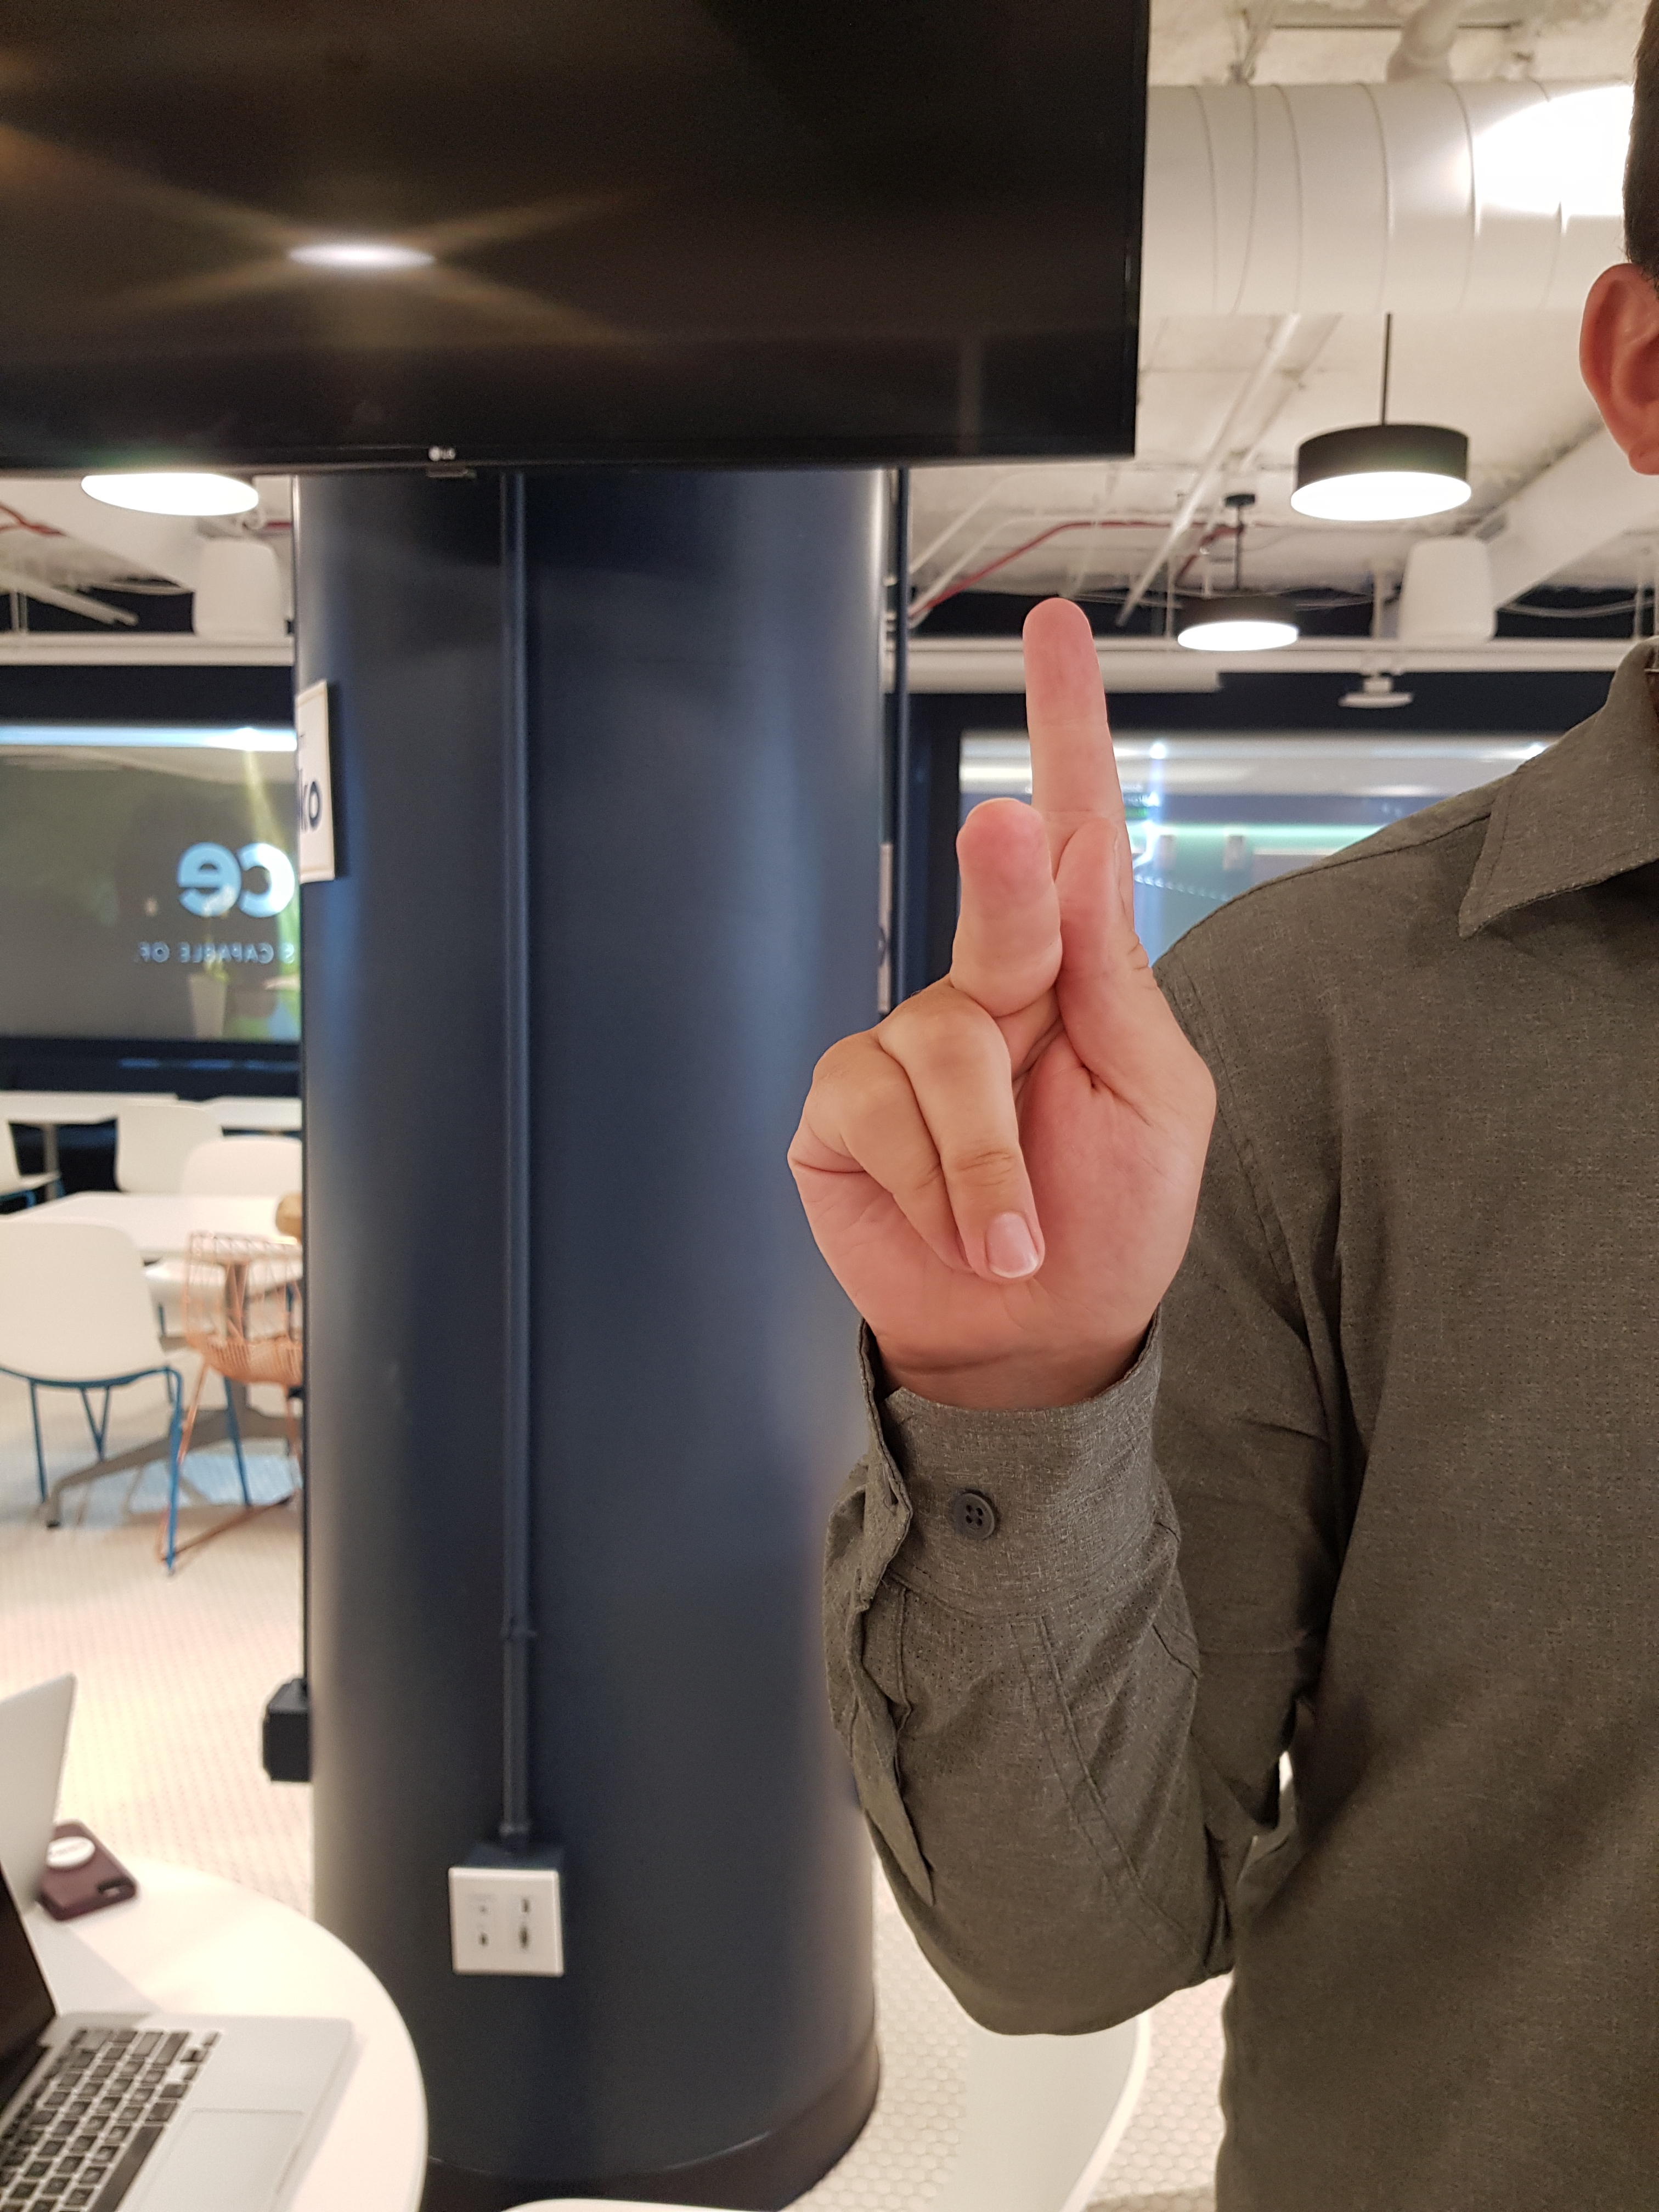k: (737, 559, 1270, 1406)
